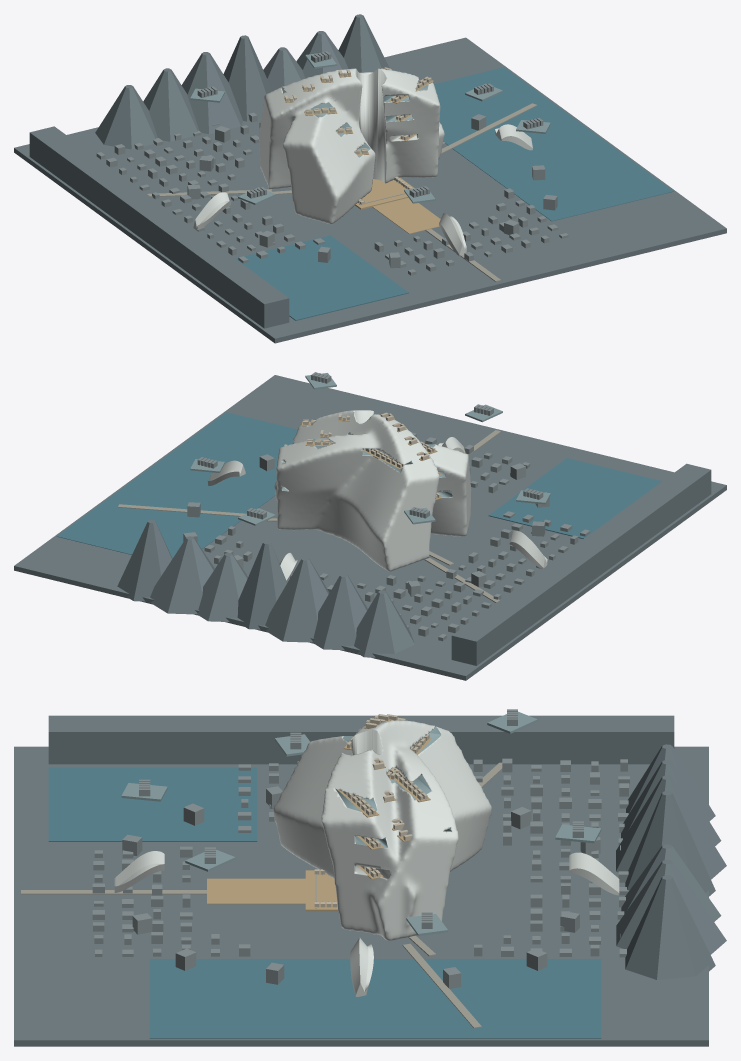
The model's file is B_CITY.glb.
3 views of the same model, one above another, from view 1: azimuth 30°, elevation 25°; view 2: azimuth 150°, elevation 25°; view 3: azimuth 270°, elevation 25° (orthographic). The views are drawn at different scales.
Visible parts, largest first — view 1: abstract_10km_urban_ground, CIVIC_CONTINUOUS_MASS_B, east_artificial_inland_sea, abstract_west_cliff, southwest_negative_space, abstract_north_mountain.002, abstract_north_mountain.001, abstract_north_mountain, abstract_north_mountain.003, abstract_north_mountain.006, arrival_court, abstract_north_mountain.004 (+5 smaller); view 2: abstract_10km_urban_ground, CIVIC_CONTINUOUS_MASS_B, east_artificial_inland_sea, abstract_west_cliff, southwest_negative_space, abstract_north_mountain.002, abstract_north_mountain.005, abstract_north_mountain.001, abstract_north_mountain.003, abstract_north_mountain, abstract_north_mountain.006, abstract_north_mountain.004 (+2 smaller); view 3: abstract_10km_urban_ground, east_artificial_inland_sea, CIVIC_CONTINUOUS_MASS_B, abstract_west_cliff, southwest_negative_space, abstract_north_mountain.006, abstract_north_mountain.003, abstract_north_mountain.002, abstract_north_mountain.005, arrival_court, abstract_north_mountain.004, abstract_north_mountain.001 (+7 smaller).
Part boxes in pixels (bbox=[...]): abstract_10km_urban_ground: bbox=[14, 37, 726, 343]; CIVIC_CONTINUOUS_MASS_B: bbox=[258, 68, 444, 224]; east_artificial_inland_sea: bbox=[434, 67, 673, 221]; abstract_west_cliff: bbox=[29, 126, 289, 328]; southwest_negative_space: bbox=[235, 235, 408, 320]; abstract_north_mountain.002: bbox=[181, 52, 242, 133]; abstract_north_mountain.001: bbox=[143, 68, 199, 141]; abstract_north_mountain: bbox=[95, 85, 157, 149]; abstract_north_mountain.003: bbox=[223, 35, 270, 121]; abstract_north_mountain.006: bbox=[338, 14, 389, 72]; arrival_court: bbox=[372, 197, 440, 233]; abstract_north_mountain.004: bbox=[263, 47, 305, 92]; abstract_10km_urban_ground: bbox=[14, 375, 726, 680]; CIVIC_CONTINUOUS_MASS_B: bbox=[274, 410, 471, 571]; east_artificial_inland_sea: bbox=[57, 412, 297, 558]; abstract_west_cliff: bbox=[451, 463, 711, 665]; southwest_negative_space: bbox=[488, 458, 661, 538]; abstract_north_mountain.002: bbox=[265, 557, 329, 642]; abstract_north_mountain.005: bbox=[150, 536, 214, 614]; abstract_north_mountain.001: bbox=[312, 574, 367, 650]; abstract_north_mountain.003: bbox=[237, 541, 286, 629]; abstract_north_mountain: bbox=[354, 590, 414, 657]; abstract_north_mountain.006: bbox=[117, 520, 172, 601]; abstract_north_mountain.004: bbox=[197, 552, 247, 621]; abstract_10km_urban_ground: bbox=[14, 746, 708, 1046]; east_artificial_inland_sea: bbox=[149, 959, 601, 1038]; CIVIC_CONTINUOUS_MASS_B: bbox=[273, 720, 491, 940]; abstract_west_cliff: bbox=[48, 715, 674, 764]; southwest_negative_space: bbox=[48, 767, 257, 841]; abstract_north_mountain.006: bbox=[625, 875, 715, 979]; abstract_north_mountain.003: bbox=[625, 791, 715, 896]; abstract_north_mountain.002: bbox=[616, 775, 726, 879]; abstract_north_mountain.005: bbox=[616, 859, 726, 954]; arrival_court: bbox=[207, 878, 305, 904]; abstract_north_mountain.004: bbox=[621, 844, 721, 921]; abstract_north_mountain.001: bbox=[621, 760, 721, 845].
Bounding box in the file's own units: 10000 × 2607 × 10260.
